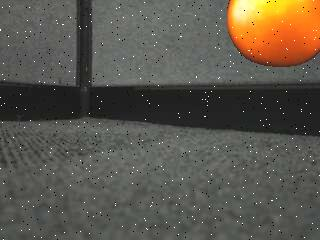Orange: (226, 1, 320, 70)
